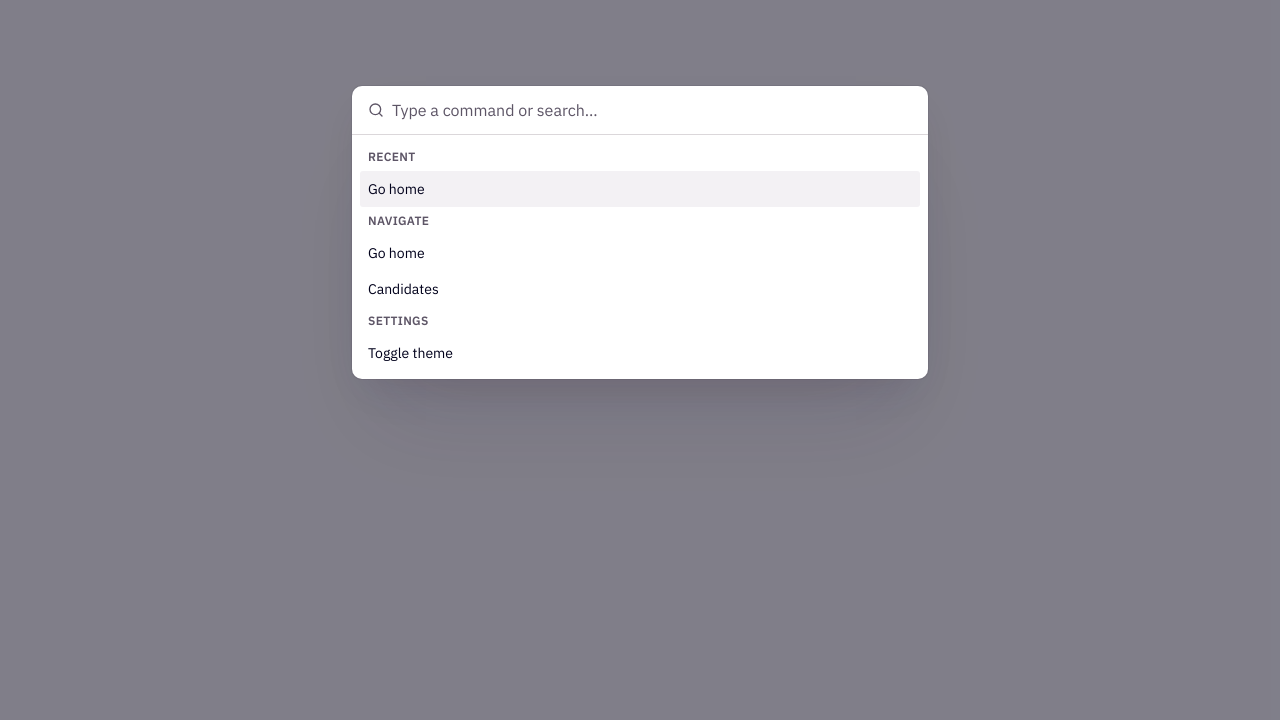
it: CommandPalette › lists recent items only while the query is empty
The width and height of the screenshot is (1280, 720).
Expected: the text "Recent" is shown, [368,149,416,164]
In the dropdown: (652, 110) [392,86,912,134], type "the"
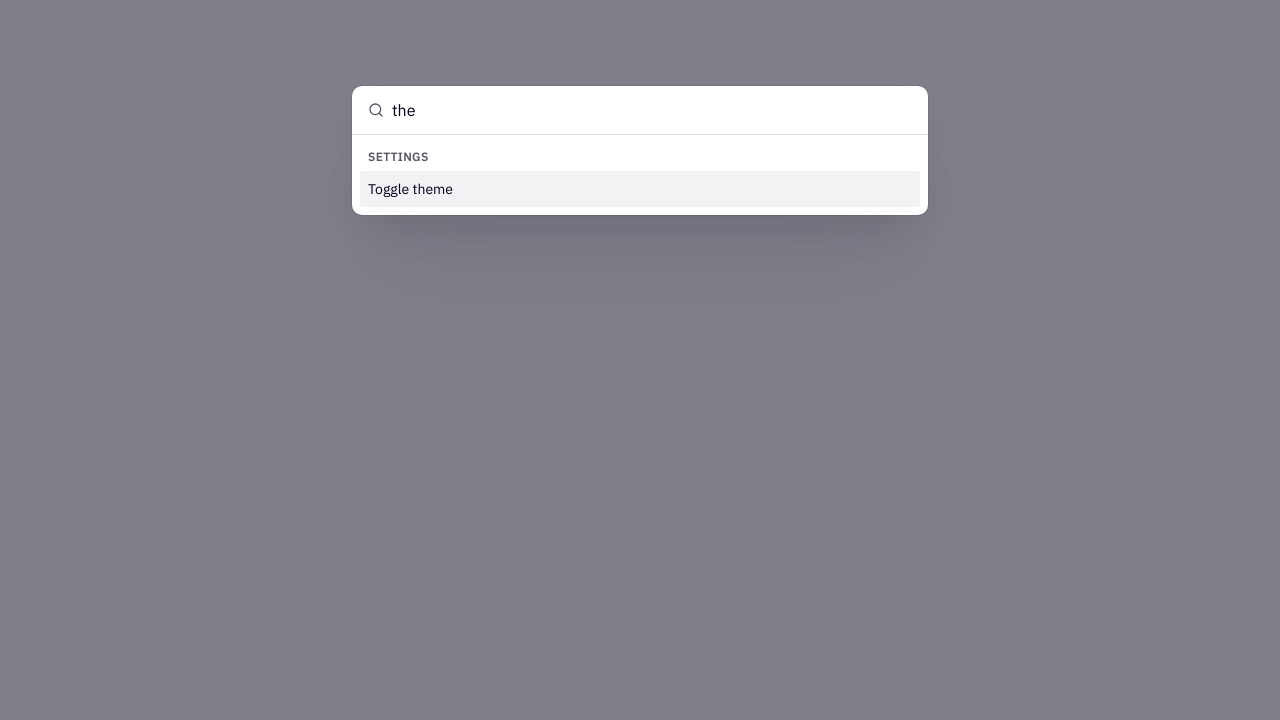
Now the text "Recent" is gone
